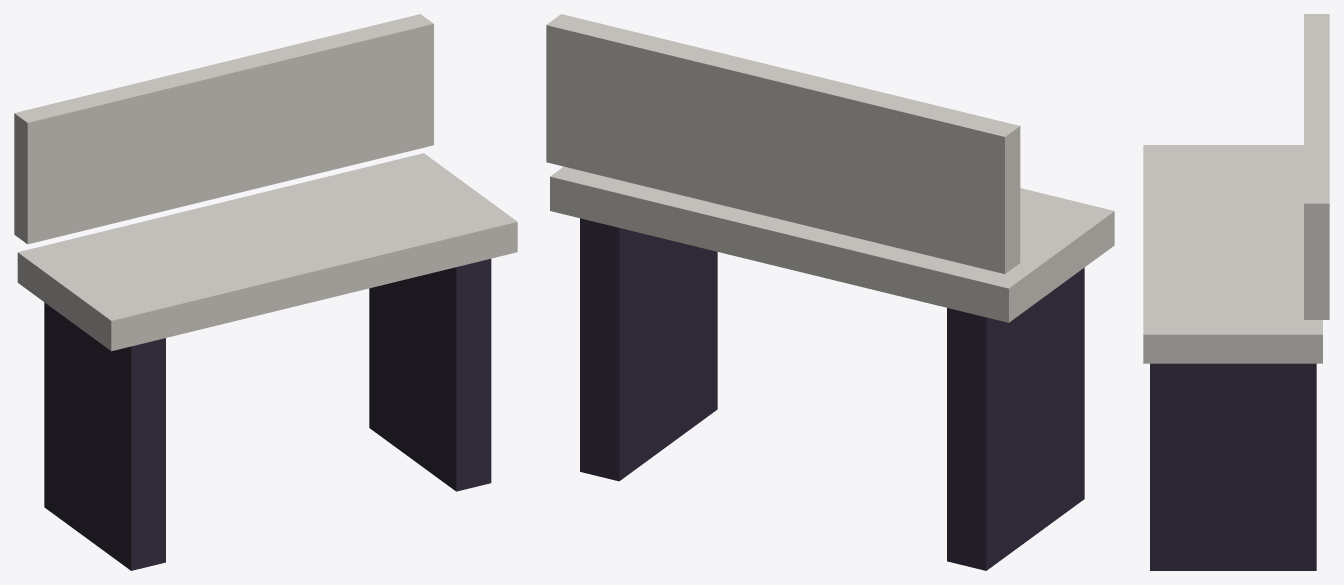
Rendered from bench.glb.
3 renders of one model, left to right at view 1: azimuth 30°, elevation 25°; view 2: azimuth 150°, elevation 25°; view 3: azimuth 270°, elevation 25°, orthographic. The views are drawn at different scales.
Parts seen in each view (by area): view 1: park-bench; view 2: park-bench; view 3: park-bench.
Boxes of the visible parts, bbox=[...] form: park-bench: bbox=[14, 14, 517, 570]; park-bench: bbox=[546, 14, 1114, 570]; park-bench: bbox=[1143, 14, 1329, 570].
Bounding box in the file's own units: 0.7 × 0.65 × 0.29.
